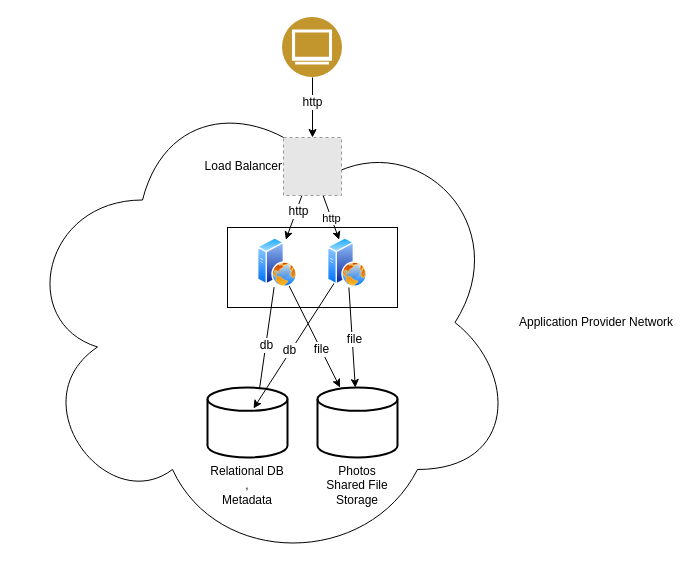
Image size: 691x585. Some labels were removed from this diagram. Grey dashed boxes stand in for pictures. The shapes that lost their labels are listed below. From the top down, each one's box as (x1, y1, x2, y2) in pixels, then its label:
(282, 17, 342, 77): Client, Browser
(226, 226, 398, 308): Web Application Sever
